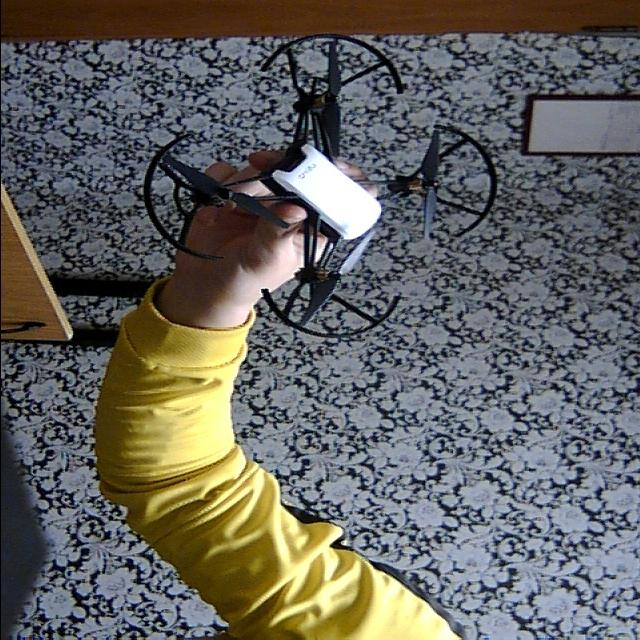drone: (140, 32, 510, 350)
